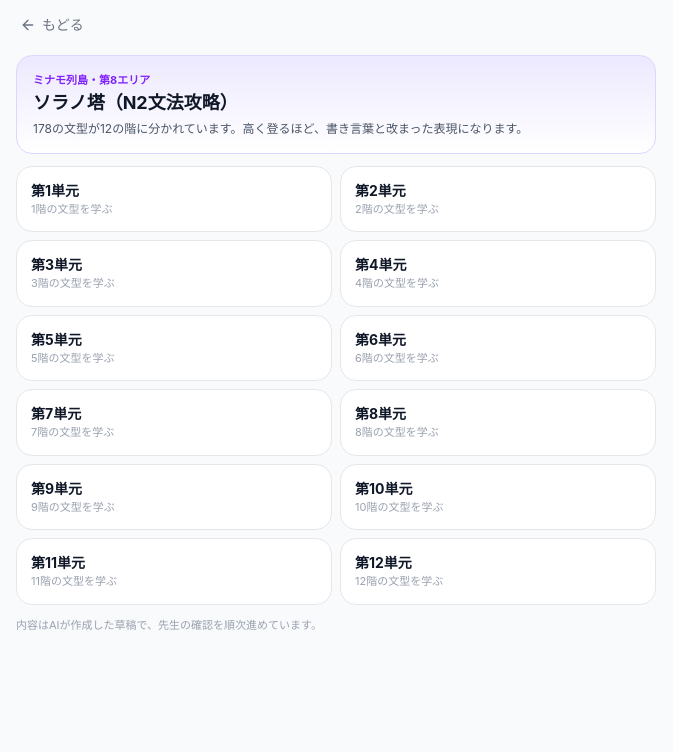
Test case: N2GrammarQuestPanel（ソラノ塔） › unit 11 には同義判断待ちの n2g-162（〜矢先に）も表示される（180/180）
Click the text "第11単元". click: (58, 562)
box: [31,554,85,571]
(page scrolled)
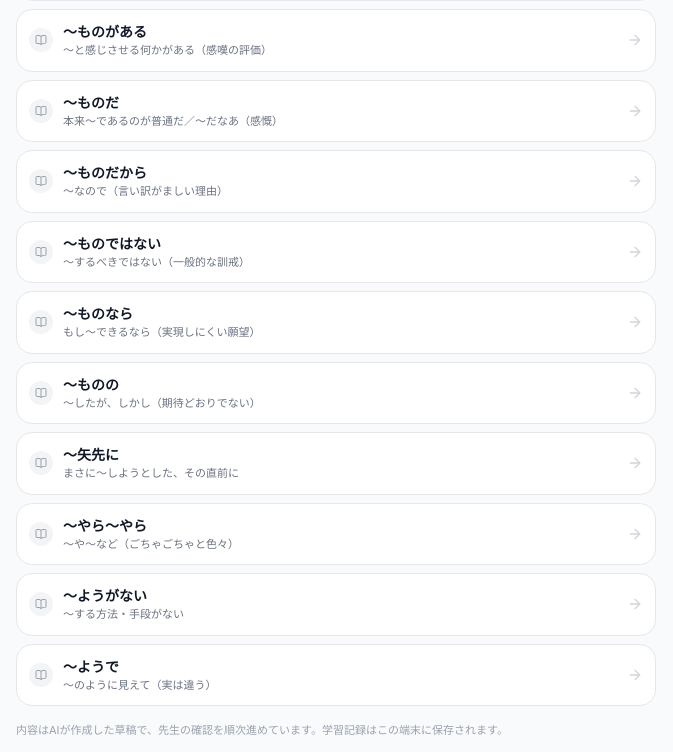
Now the text "〜矢先に" is shown, box [63,446,119,463]
